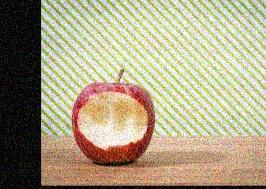rotten apple: (70, 79, 159, 169)
